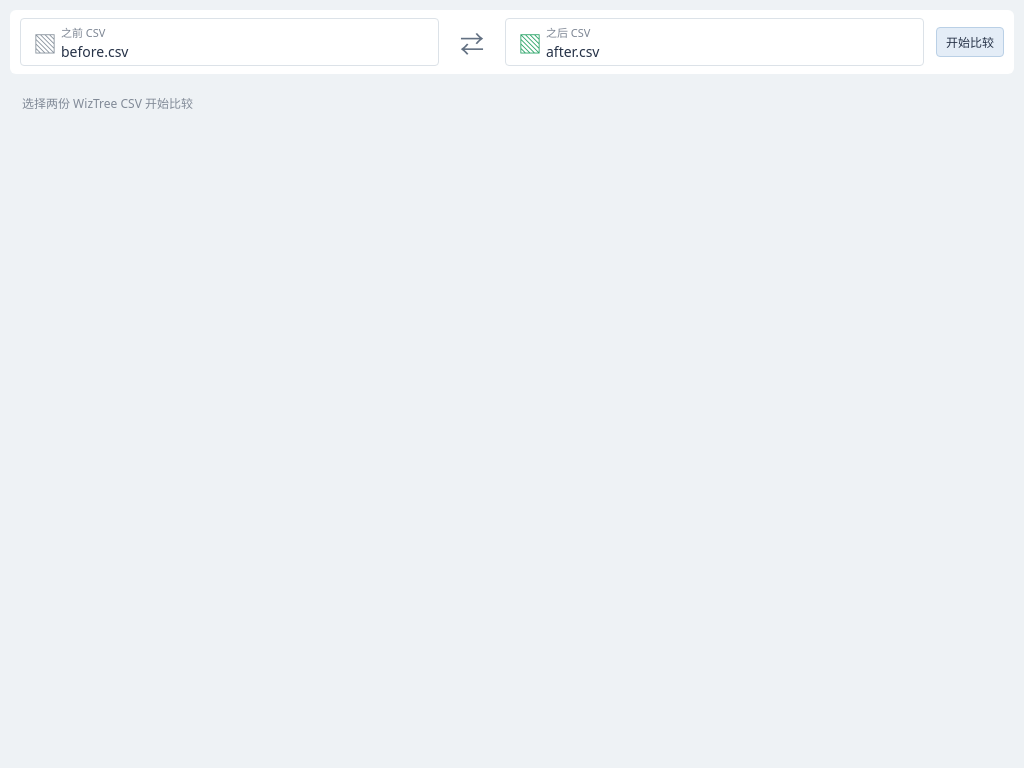
Test: starts blank, waits for manual start, reads only the ready ID, and starts blank again after remount
Expected: the text "选择两份 WizTree CSV 开始比较" is shown, [22,95,193,112]
Click the button "开始比较" at (970, 42), box [936,27,1004,57]
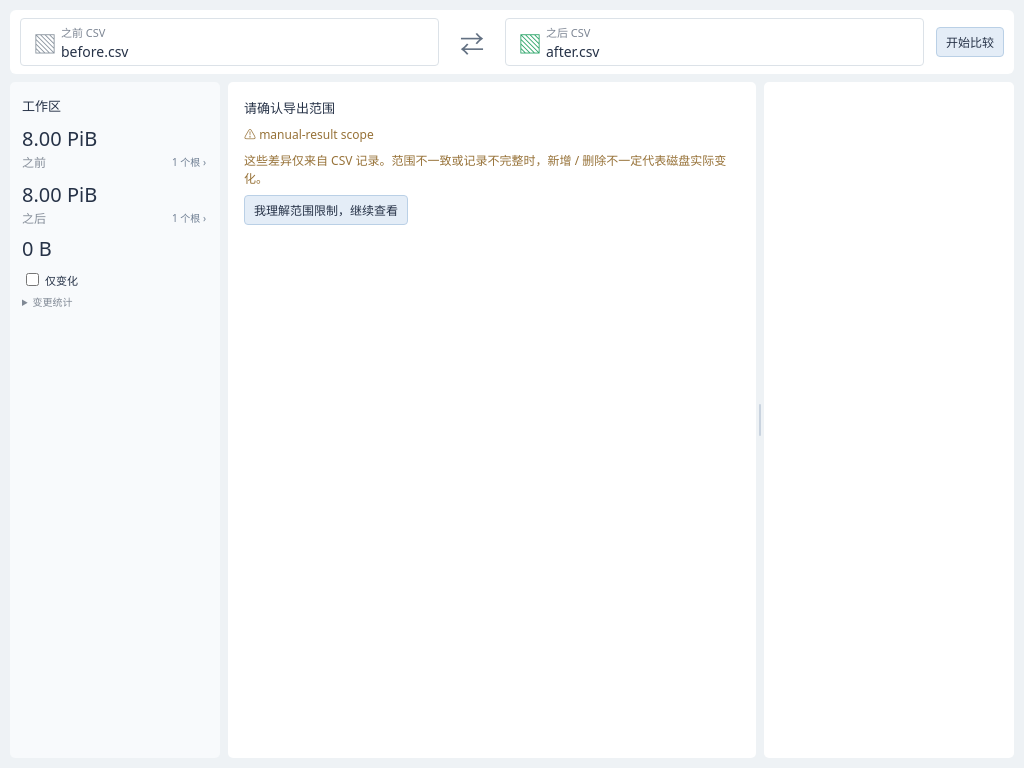
Expected: the text "⚠ manual-result scope" is shown, [244,126,374,143]
